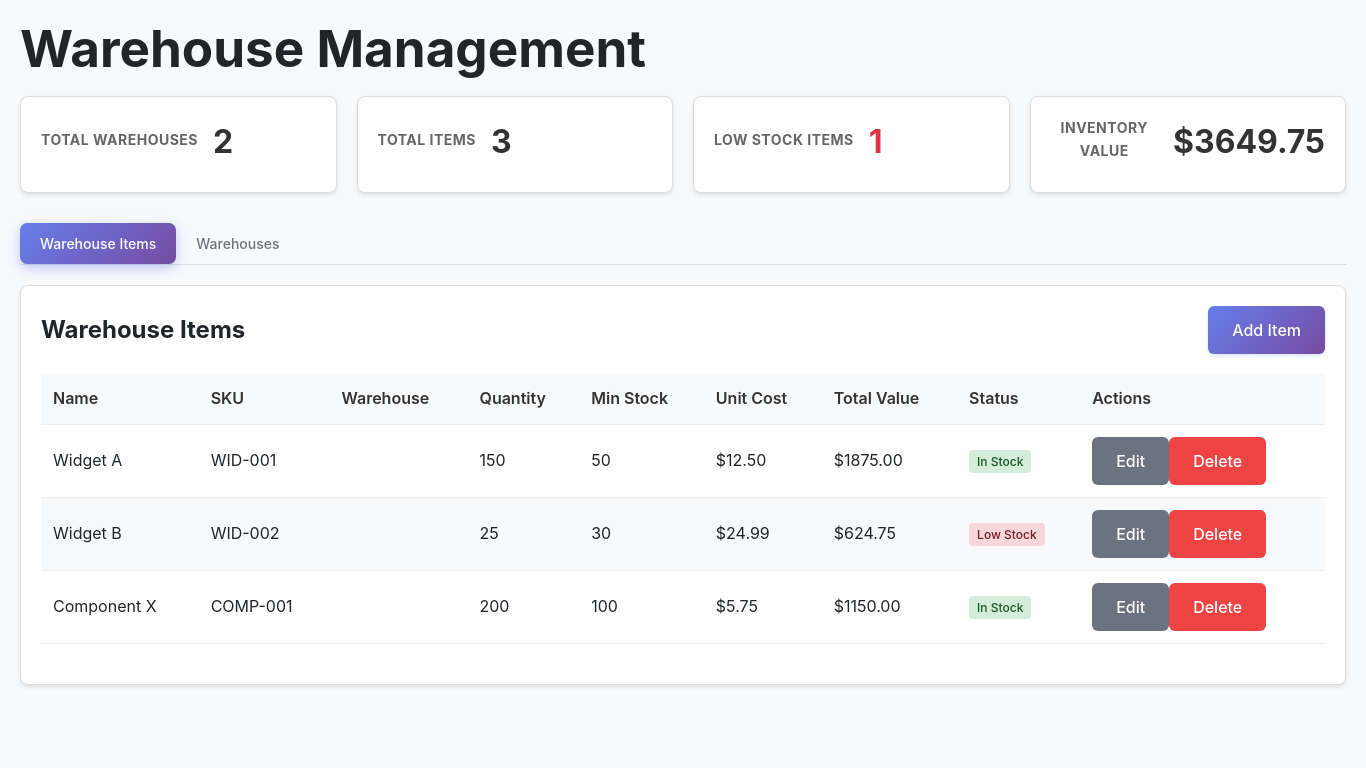
Scenario: Warehouse Component - REQ-301.1 › User Interactions and State Management › maintains separate form states for warehouses and items
This screenshot has width=1366, height=768.
Expected: the heading "Warehouse Management" is shown, [20, 17, 646, 79]
Click the button "Add Item". click: (1267, 330)
box: [1208, 306, 1325, 354]
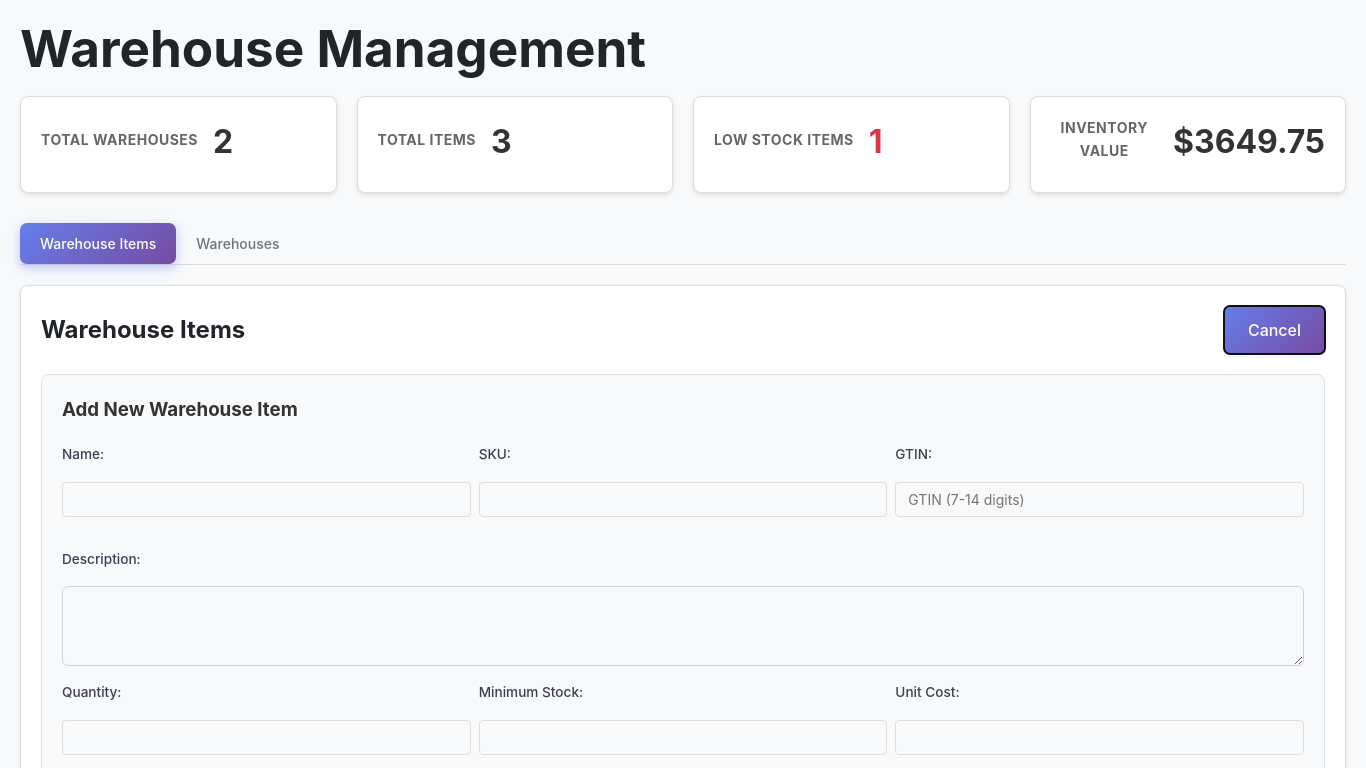
Type "Test Item" into the field labelled "Name:". click: (266, 499)
box: [62, 482, 471, 516]
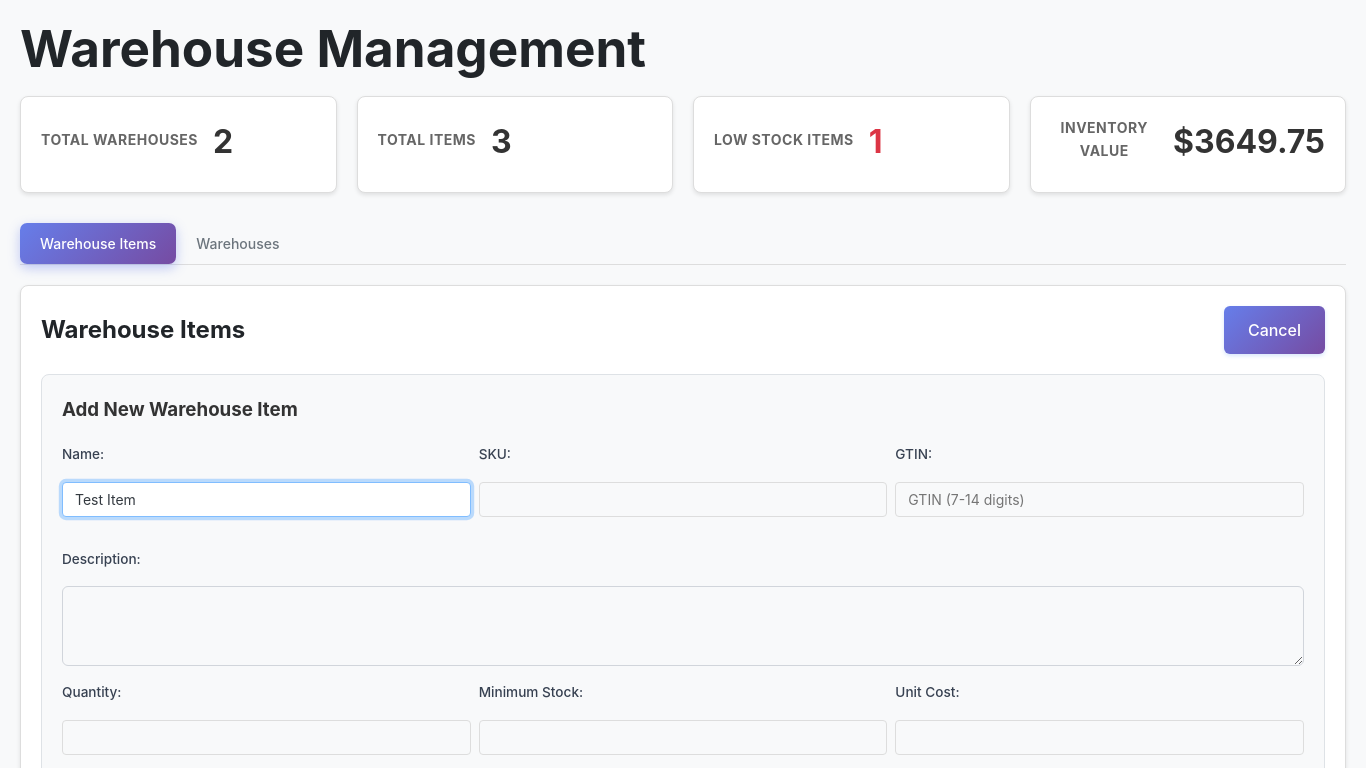
Click the button "Warehouses". click: (238, 244)
box: [176, 223, 300, 264]
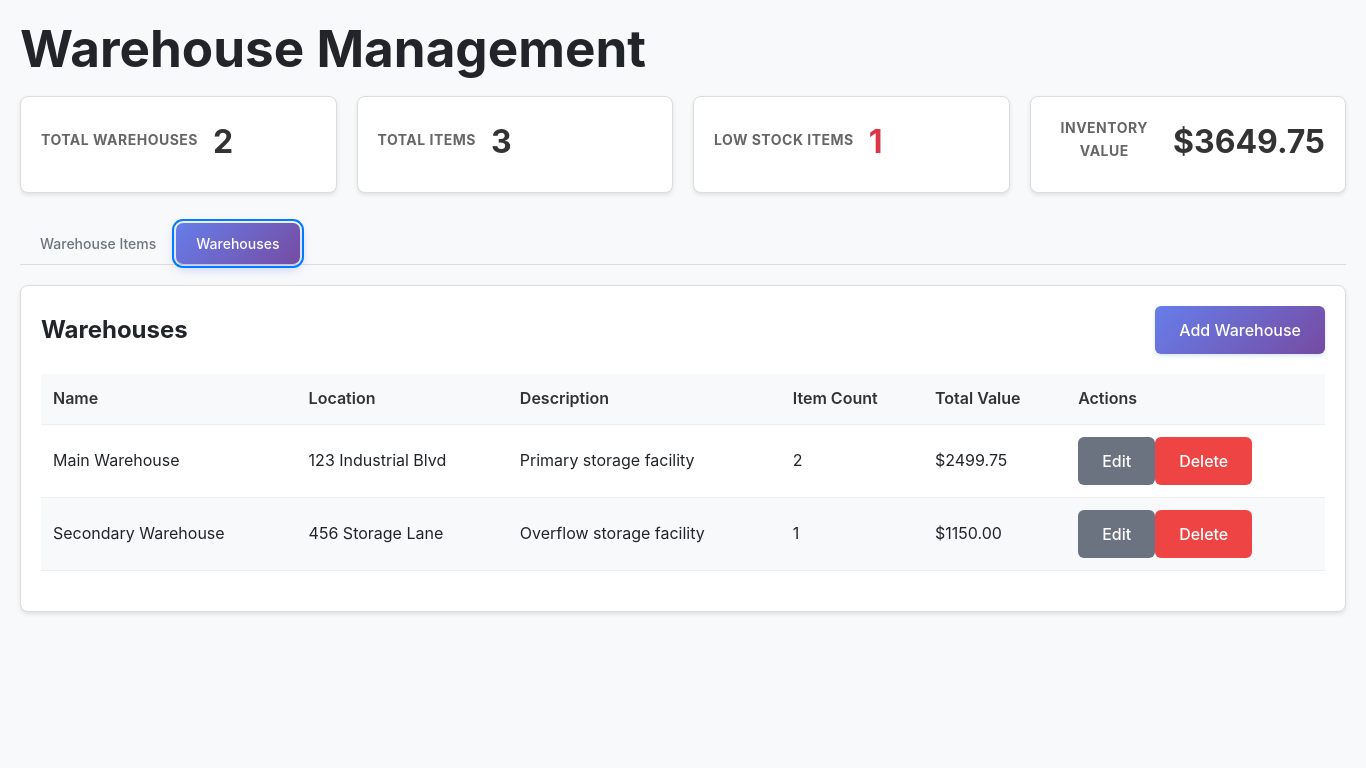
Click the button "Add Warehouse". click: (1240, 330)
box: [1155, 306, 1325, 354]
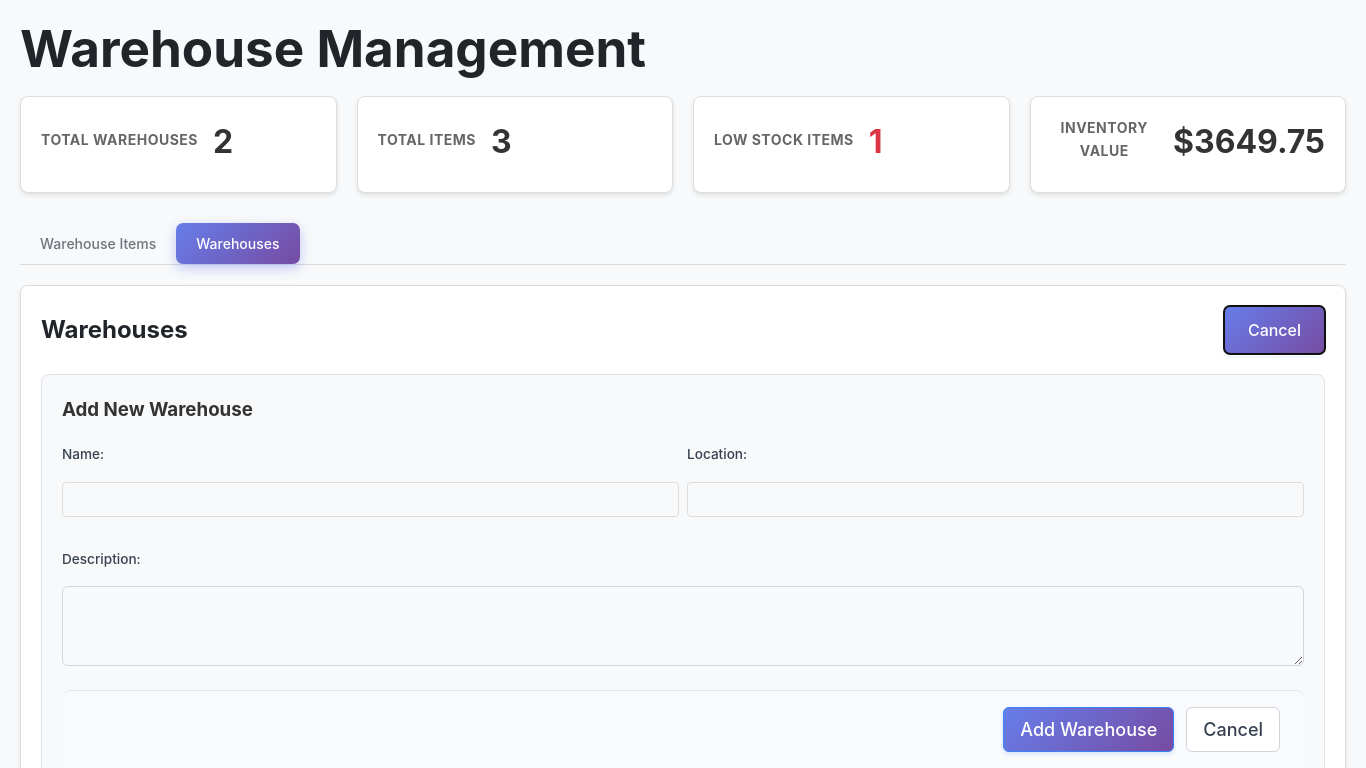
Type "Test Warehouse" into the field labelled "Name:". click: (370, 499)
box: [62, 482, 679, 516]
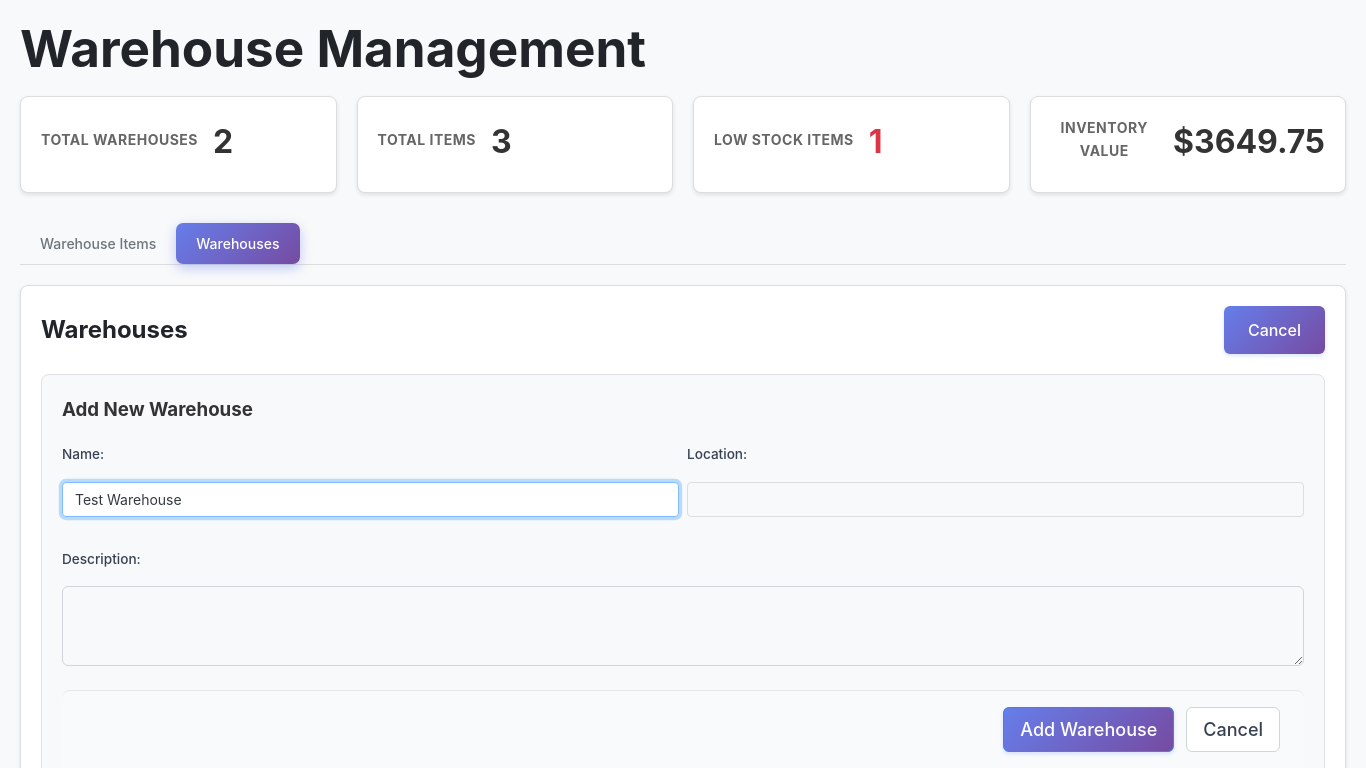
Click the button "Warehouse Items". click: (98, 244)
box: [20, 223, 176, 264]
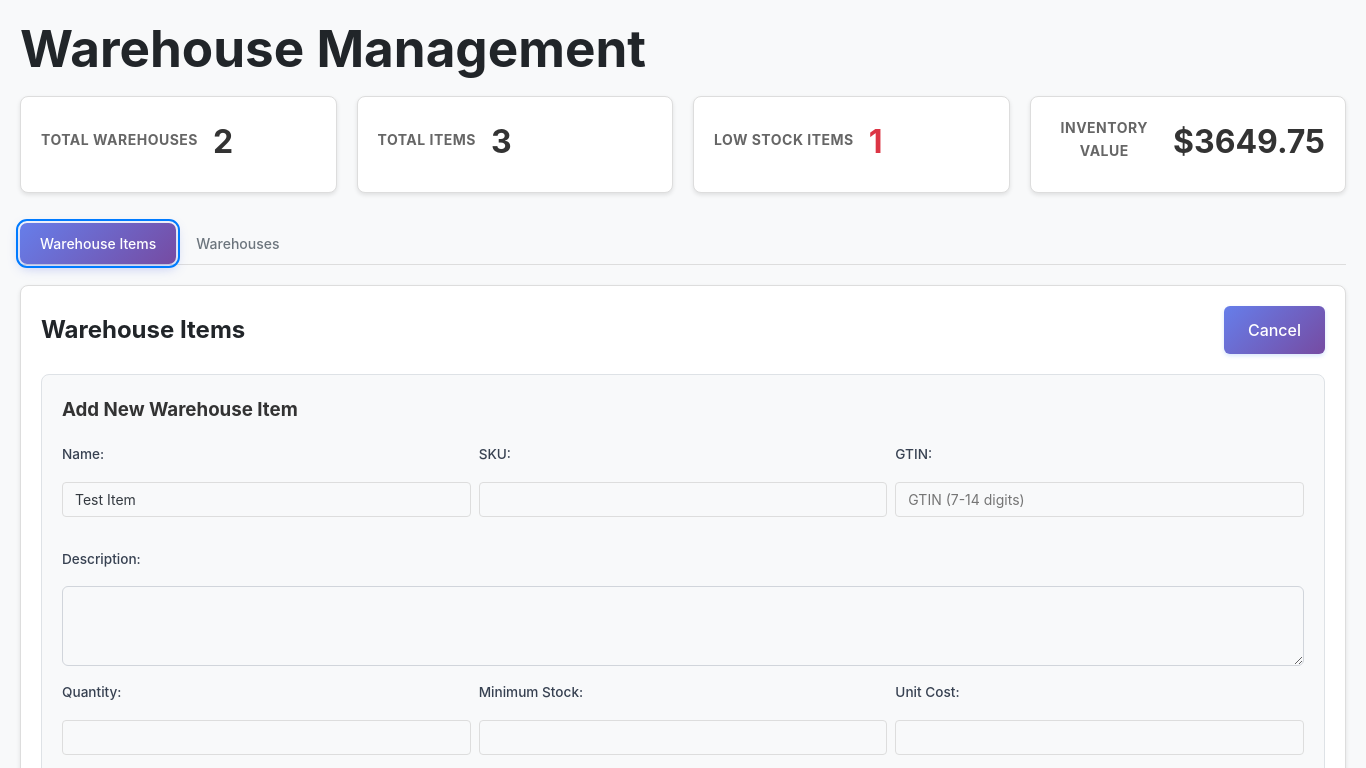
Expected: the field showing "Test Item" is shown, [62, 482, 471, 516]
